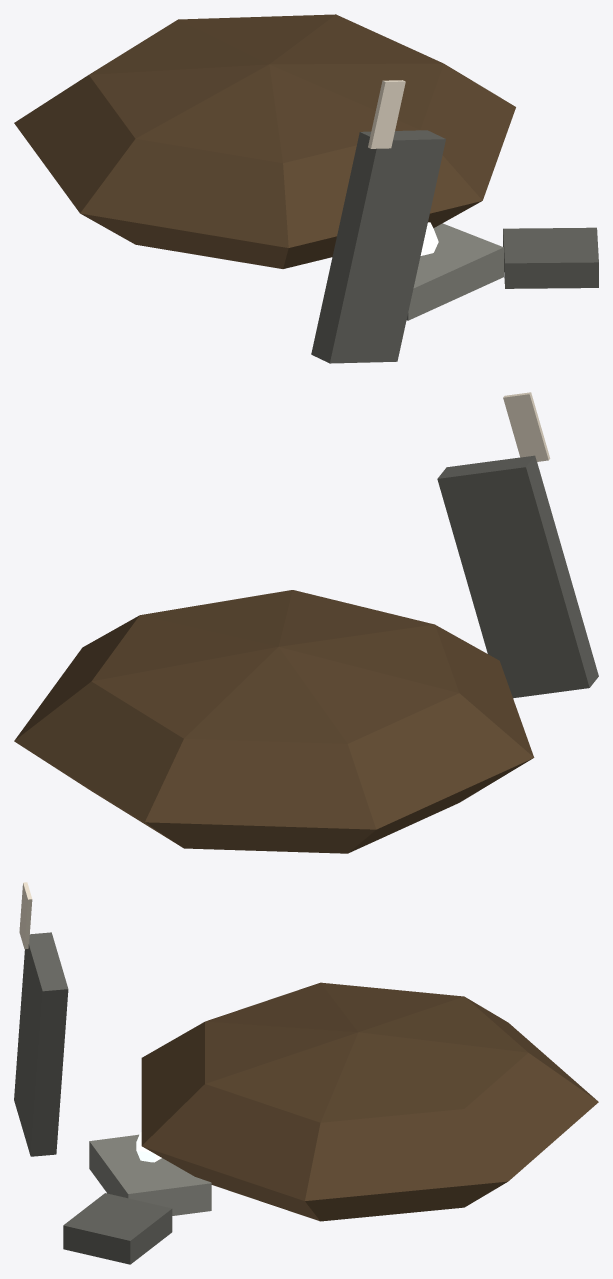
File: prop_tomb_old.glb
3 renders of one model, top to bottom at view 1: azimuth 30°, elevation 25°; view 2: azimuth 150°, elevation 25°; view 3: azimuth 270°, elevation 25°, orthographic. The views are drawn at different scales.
Visible parts, largest first — view 1: prop_tomb_old; view 2: prop_tomb_old; view 3: prop_tomb_old.
Part boxes in pixels (left/top/right/bottom): prop_tomb_old: left=14, top=14, right=598, bottom=363; prop_tomb_old: left=14, top=392, right=598, bottom=853; prop_tomb_old: left=14, top=882, right=598, bottom=1264.
Bounding box in the file's own units: 2.14 × 1.35 × 2.67.
